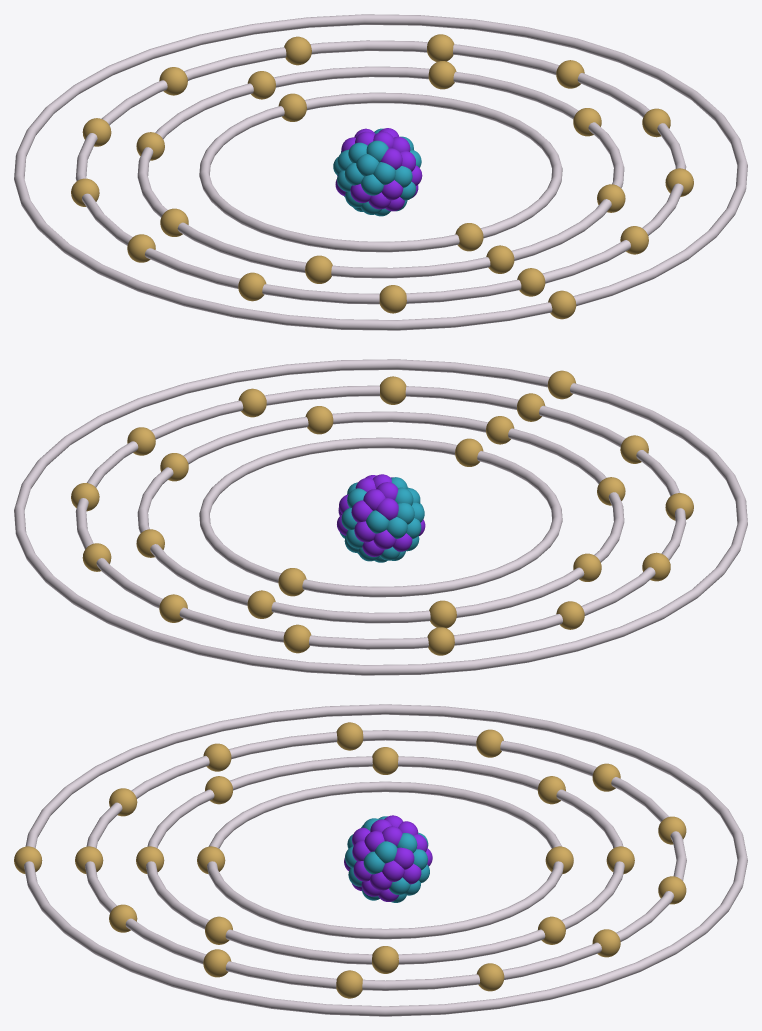
File: cromo.glb
3 views of the same model, one above another, from view 1: azimuth 30°, elevation 25°; view 2: azimuth 150°, elevation 25°; view 3: azimuth 270°, elevation 25° (orthographic).
Parts seen in each view (by area): view 1: Orbita_4, Orbita_3, Orbita_2, Orbita_1, Nucleo_Completo, Eletron_C3_13, Eletron_C2_8, Eletron_C3_7, Eletron_C2_4, Eletron_C4_1, Eletron_C3_6, Eletron_C3_12 (+17 smaller); view 2: Orbita_4, Orbita_3, Orbita_2, Orbita_1, Nucleo_Completo, Eletron_C3_9, Eletron_C3_8, Eletron_C3_2, Eletron_C2_6, Eletron_C2_2, Eletron_2, Eletron_C2_5 (+17 smaller); view 3: Orbita_4, Orbita_3, Orbita_2, Orbita_1, Nucleo_Completo, Eletron_C3_4, Eletron_C2_3, Eletron_C3_11, Eletron_C2_7, Eletron_C3_5, Eletron_C3_10, Eletron_C3_3 (+17 smaller).
Part boxes in pixels (box(x1,y1,x2,y2)): Orbita_4: box(14, 14, 747, 330); Orbita_3: box(75, 40, 686, 304); Orbita_2: box(137, 66, 624, 278); Orbita_1: box(199, 92, 562, 252); Nucleo_Completo: box(333, 128, 422, 216); Eletron_C3_13: box(379, 285, 406, 313); Eletron_C2_8: box(305, 255, 332, 283); Eletron_C3_7: box(284, 36, 311, 65); Eletron_C2_4: box(428, 61, 456, 89); Eletron_C4_1: box(548, 290, 576, 319); Eletron_C3_6: box(427, 34, 454, 61); Eletron_C3_12: box(238, 272, 266, 301); Orbita_4: box(14, 359, 747, 675); Orbita_3: box(75, 385, 686, 649); Orbita_2: box(137, 411, 624, 623); Orbita_1: box(199, 437, 562, 597); Nucleo_Completo: box(337, 474, 425, 562); Eletron_C3_9: box(427, 627, 454, 655); Eletron_C3_8: box(283, 624, 311, 653); Eletron_C3_2: box(380, 376, 406, 404); Eletron_C2_6: box(429, 600, 456, 628); Eletron_C2_2: box(305, 406, 333, 434); Eletron_2: box(278, 568, 306, 596); Eletron_C2_5: box(247, 590, 275, 618); Orbita_4: box(24, 704, 747, 1016); Orbita_3: box(85, 730, 686, 990); Orbita_2: box(146, 756, 624, 964); Orbita_1: box(207, 781, 563, 939); Nucleo_Completo: box(344, 815, 432, 902); Eletron_C3_4: box(336, 970, 362, 998); Eletron_C2_3: box(372, 946, 398, 973); Eletron_C3_11: box(336, 722, 363, 750); Eletron_C2_7: box(372, 747, 398, 774); Eletron_C3_5: box(476, 963, 504, 991); Eletron_C3_10: box(476, 729, 503, 757); Eletron_C3_3: box(203, 949, 231, 977).
Bounding box in the file's own units: 4.16 × 0.5048 × 4.21.
